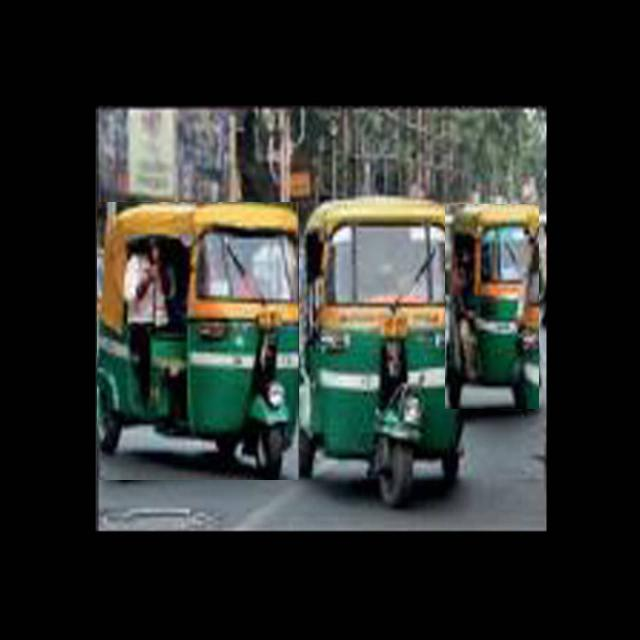autorickshaw: (98, 202, 299, 480), (296, 198, 468, 507), (446, 205, 539, 409)
